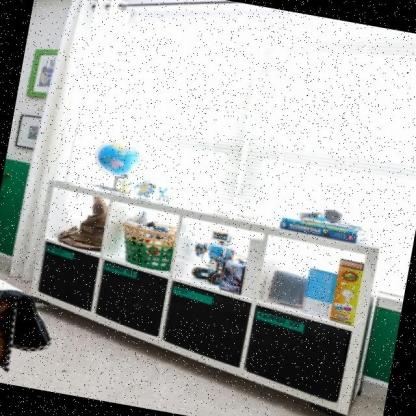Shelf: (3, 175, 399, 416)
